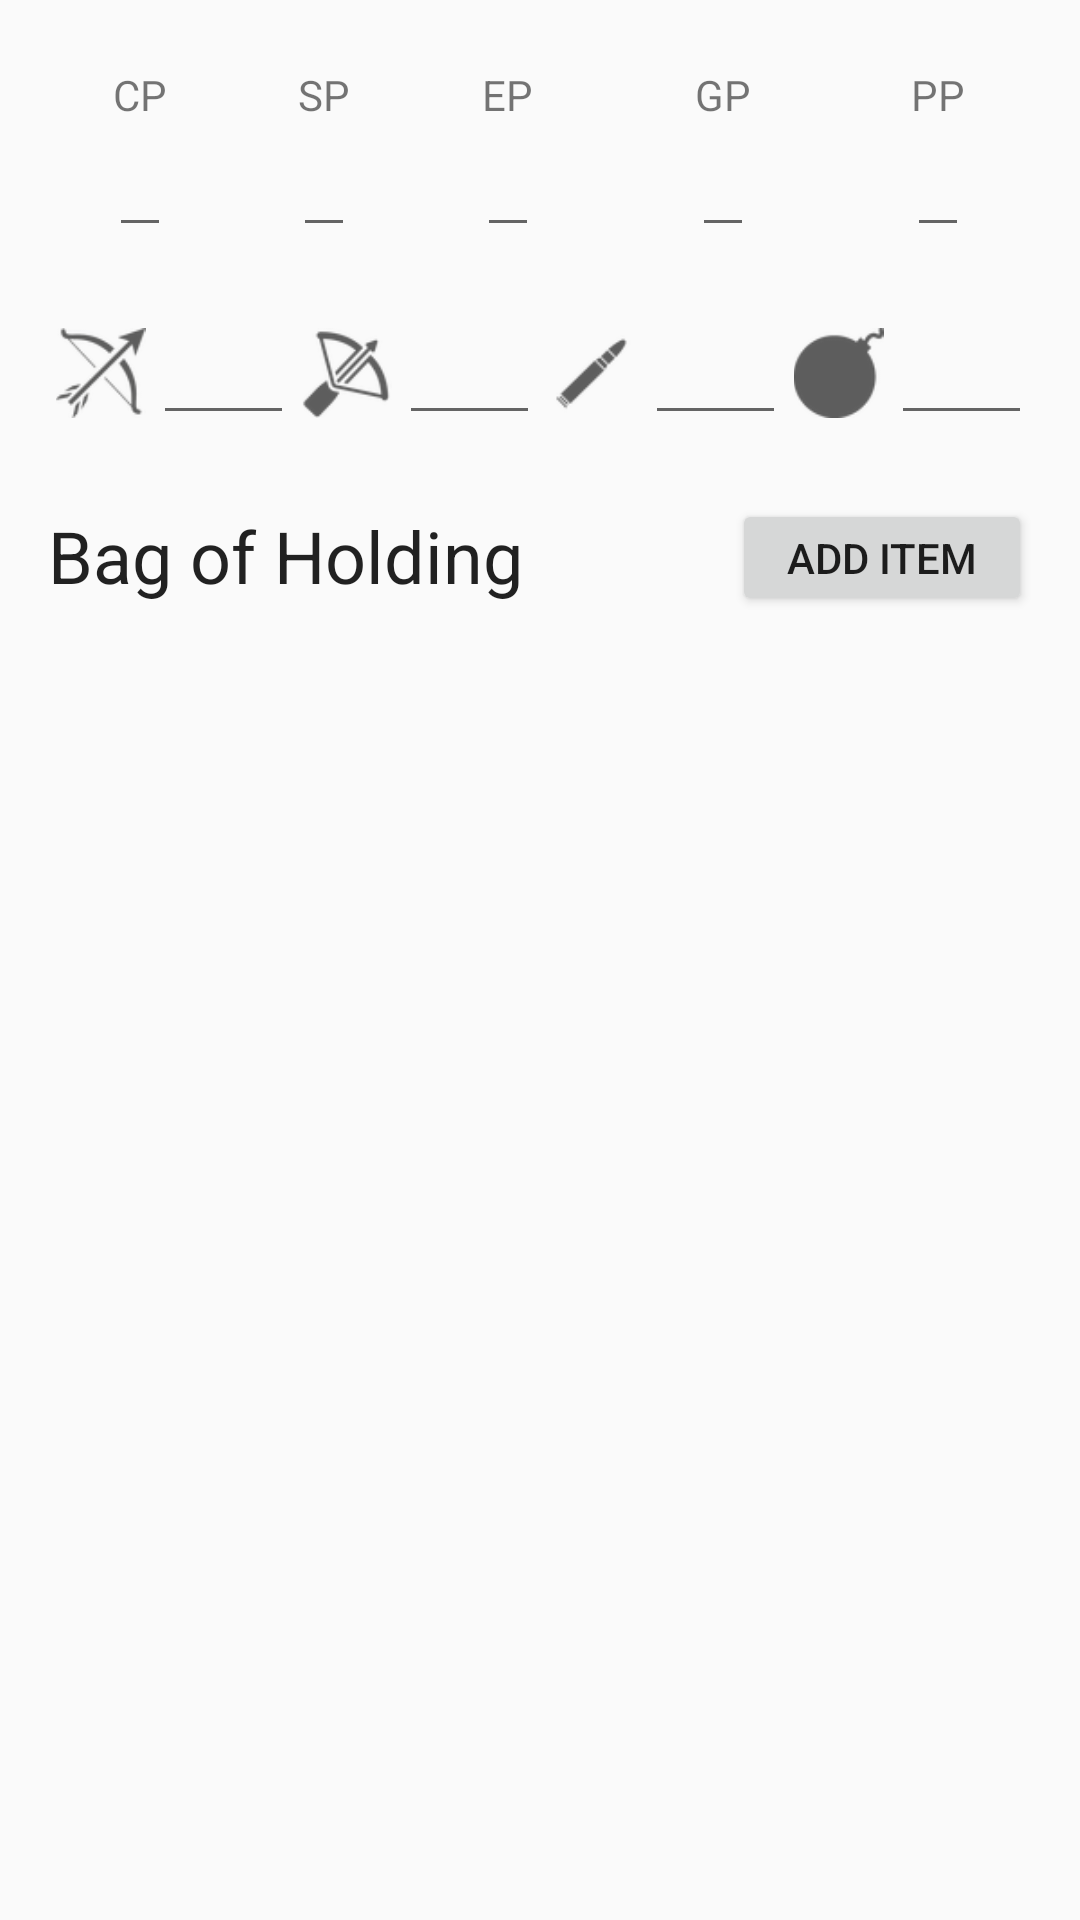

Icons on this 1080x1920 Android screen, each with its box as (x1, y1, x2, y2):
bomb: (794, 328, 884, 418)
bow: (56, 328, 146, 418)
bullet: (556, 339, 627, 408)
